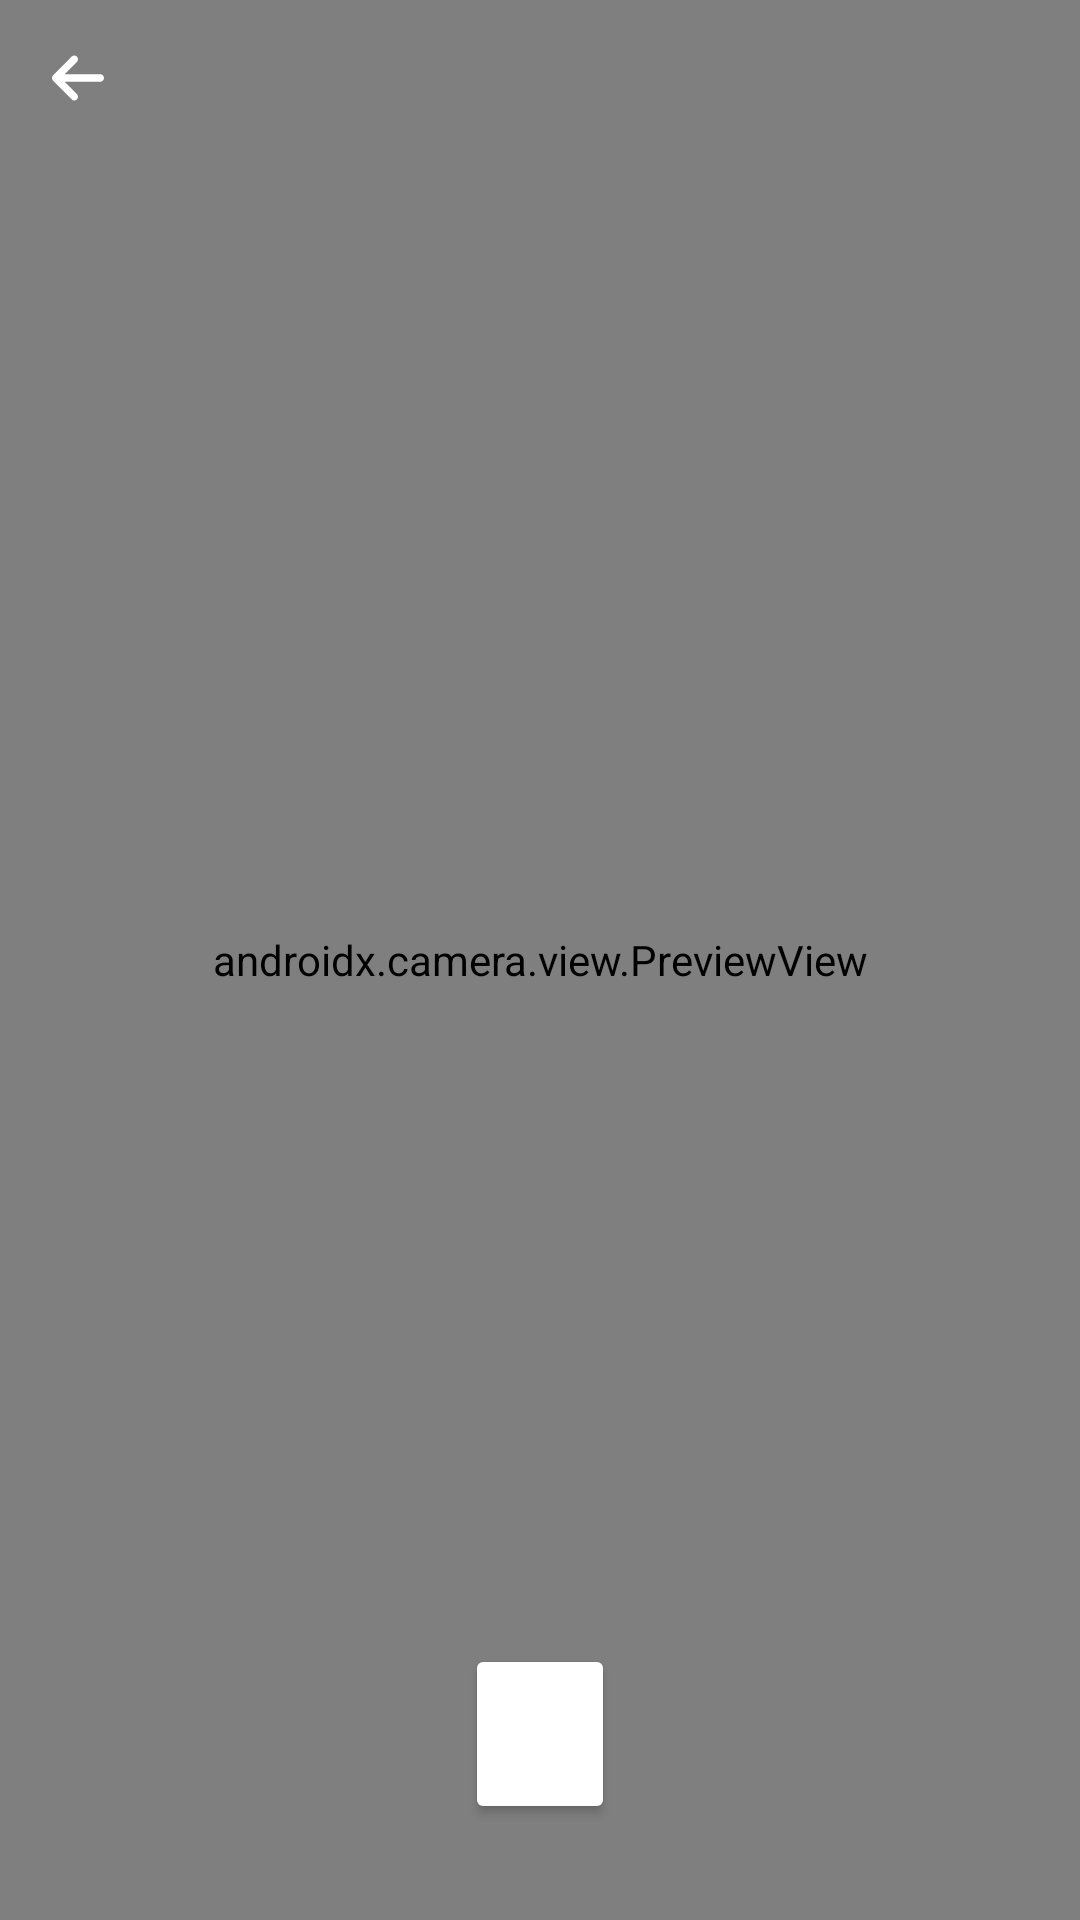

Icons on this 1080px x 1920px Android screen, each with its box as (x1, y1, x2, y2):
back: (52, 55, 104, 101)
